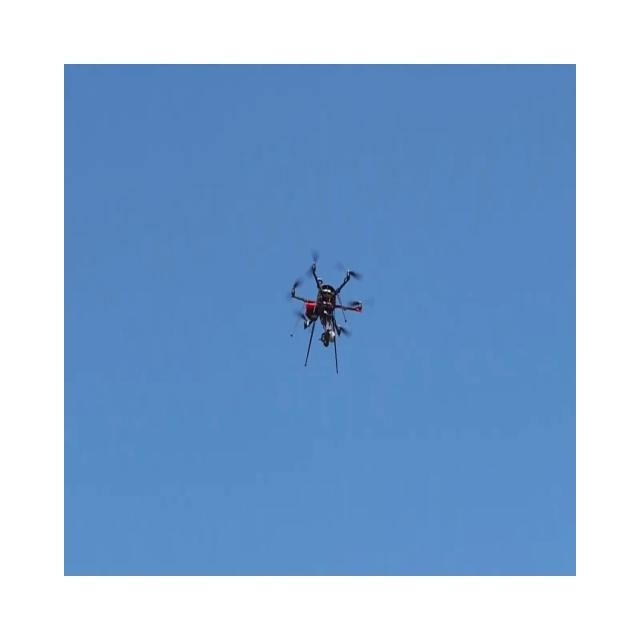drone: (289, 251, 363, 374)
